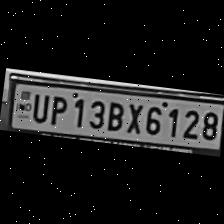1: (65, 94, 87, 128), (162, 104, 182, 139)
2: (178, 105, 202, 140)
3: (82, 96, 106, 130)
6: (139, 102, 164, 136)
8: (196, 107, 220, 141)
B: (102, 96, 126, 132)
P: (45, 92, 69, 127)
U: (25, 89, 49, 123)
X: (121, 98, 144, 134)
